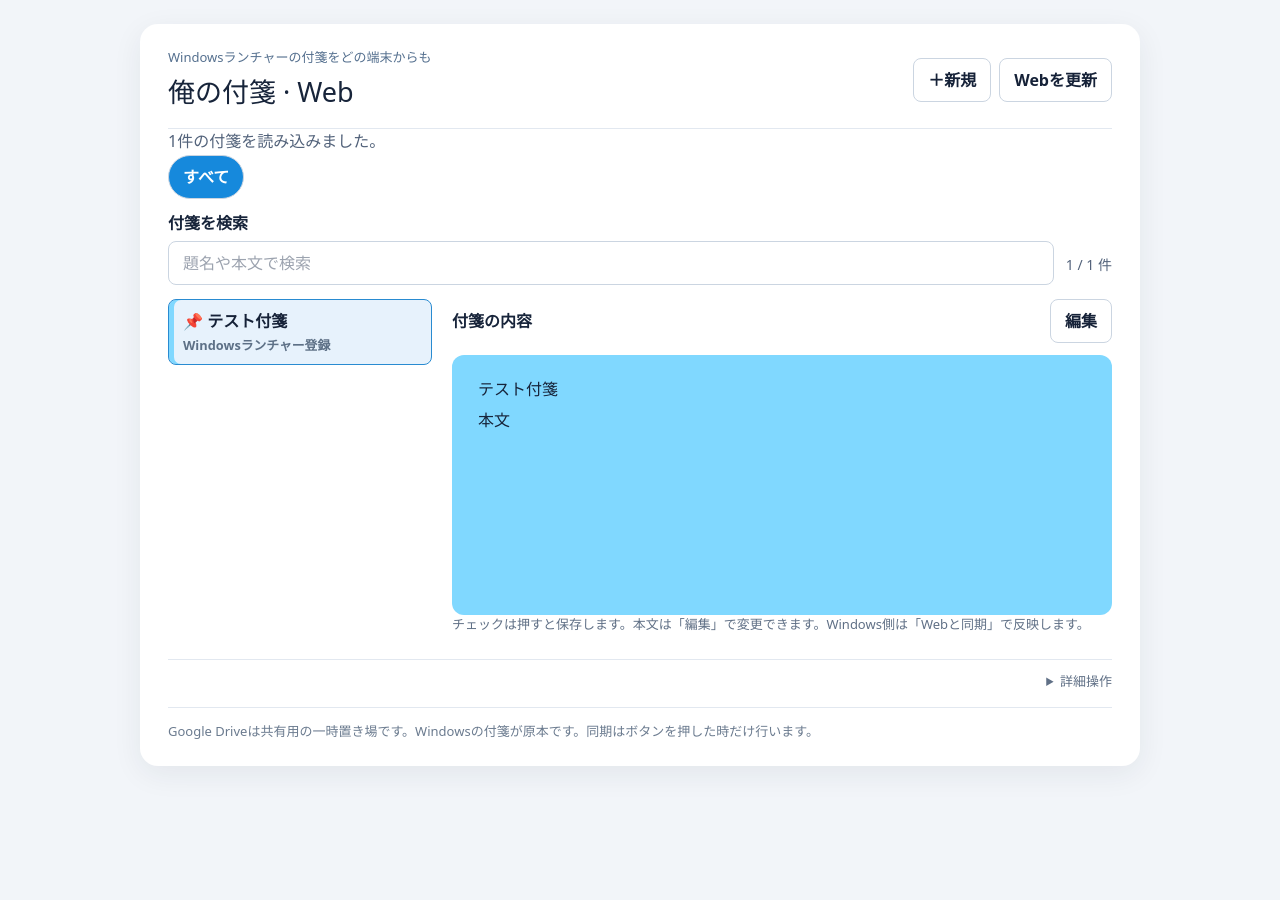
shared note editor › 共有停止保存後の再取得失敗を成功と表示しない
The width and height of the screenshot is (1280, 900).
expect the button "編集" is shown: met, box [1050, 299, 1112, 343]
Click the heading "詳細操作" at (1086, 680), box [1060, 672, 1112, 690]
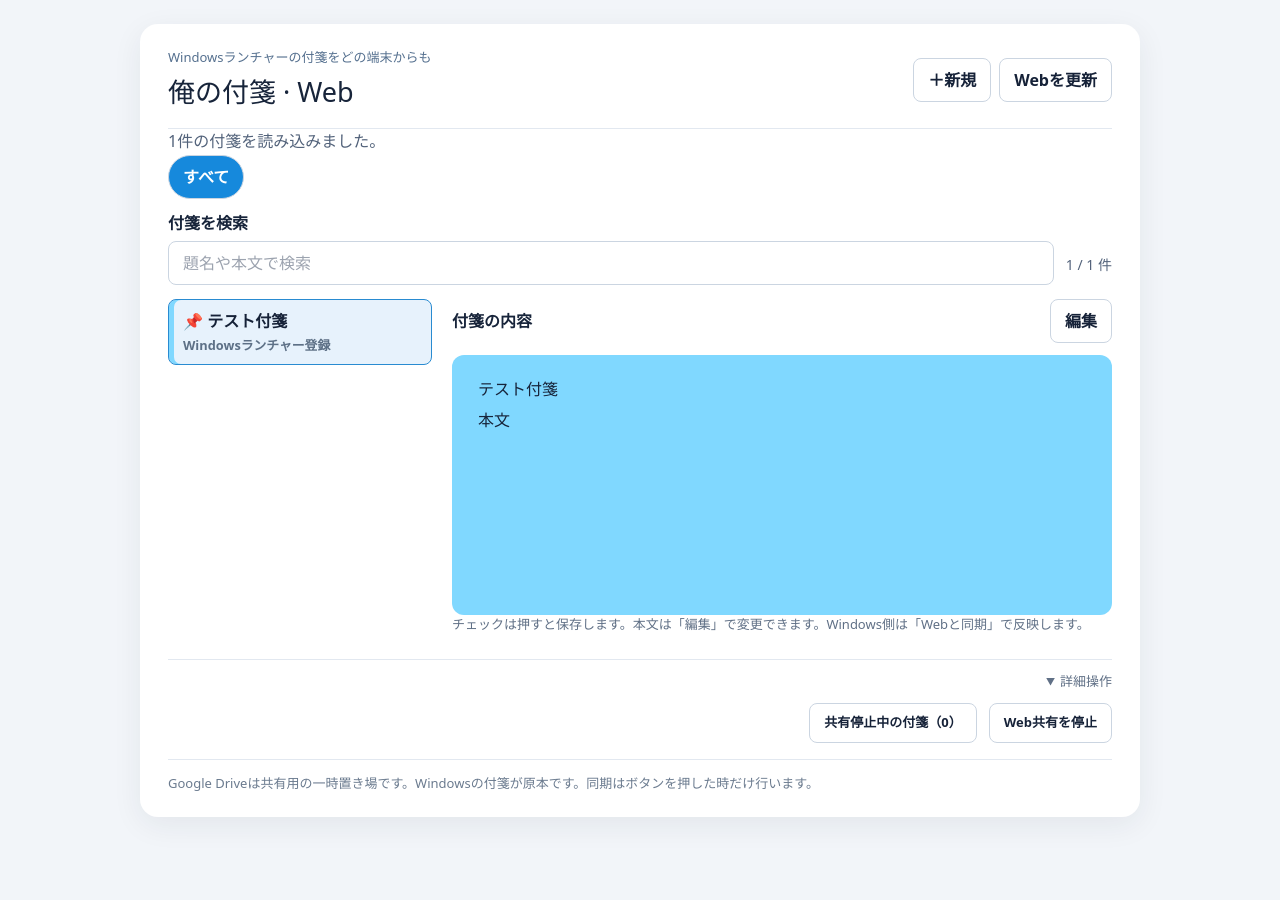
Click the button "Web共有を停止" at (1050, 723), box [989, 703, 1112, 742]
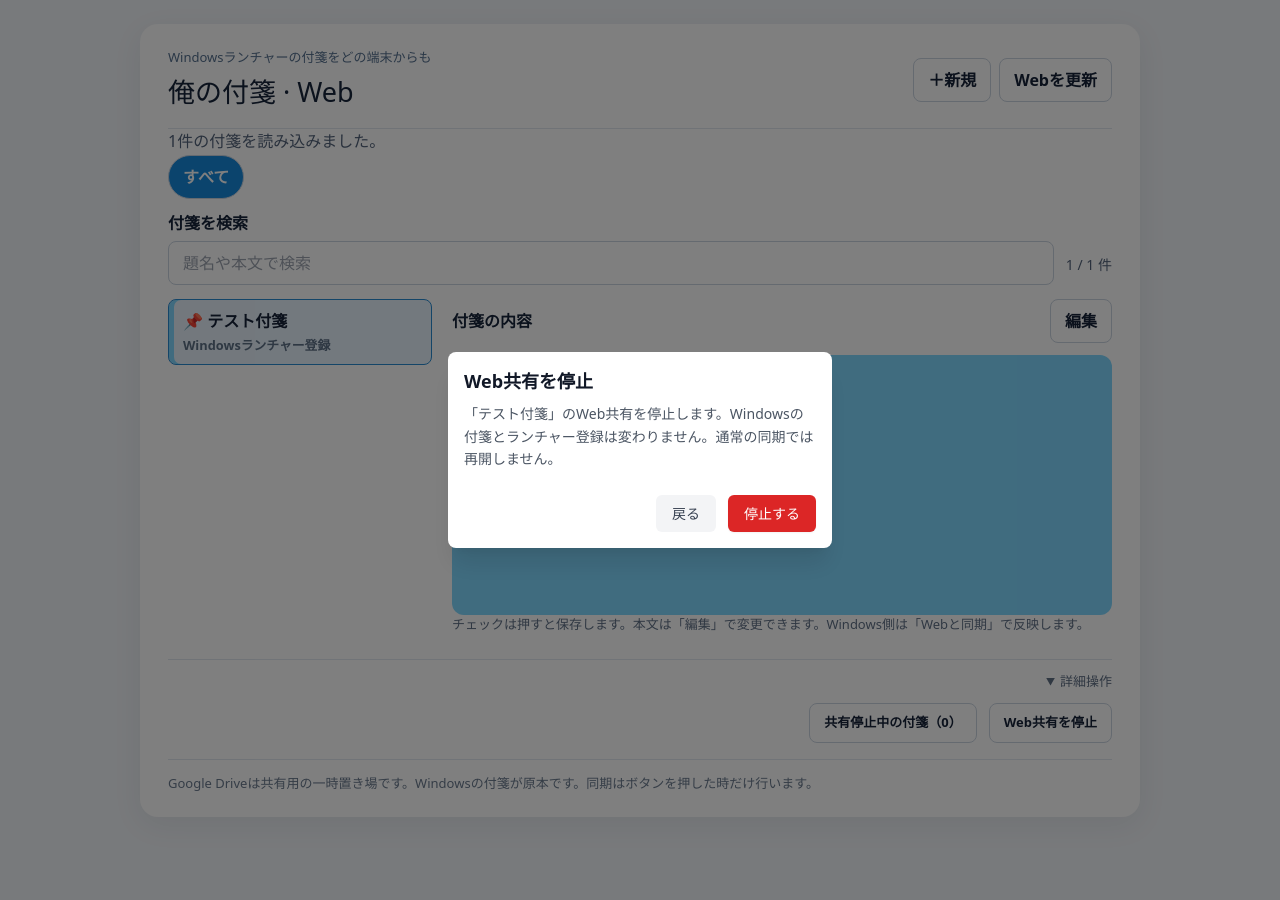
Click the button "停止する" at (772, 513), box [728, 495, 816, 532]
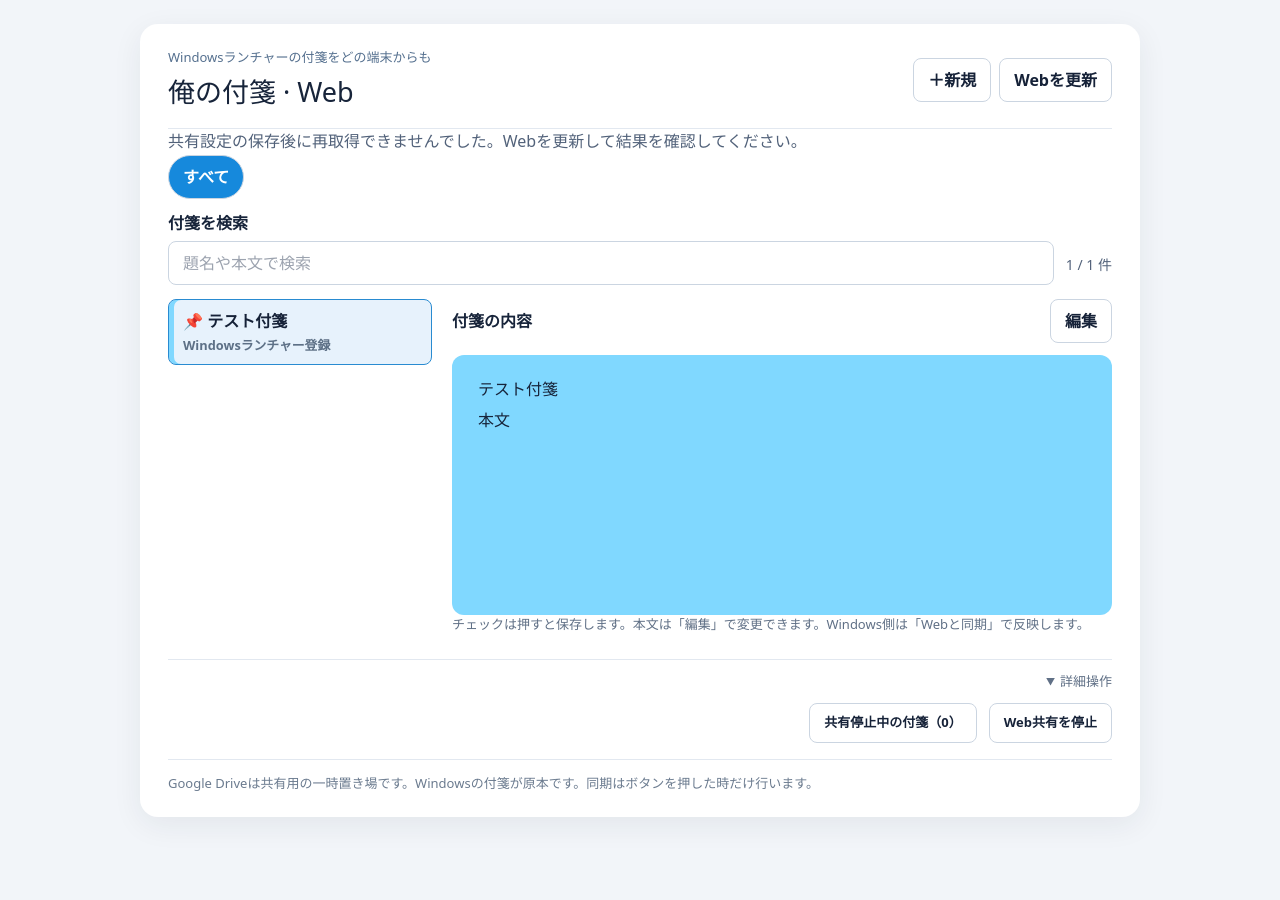
expect the text "共有設定の保存後に再取得できませんでした。Webを更新して結果を確認してください。" is shown: met, box [168, 130, 807, 152]
